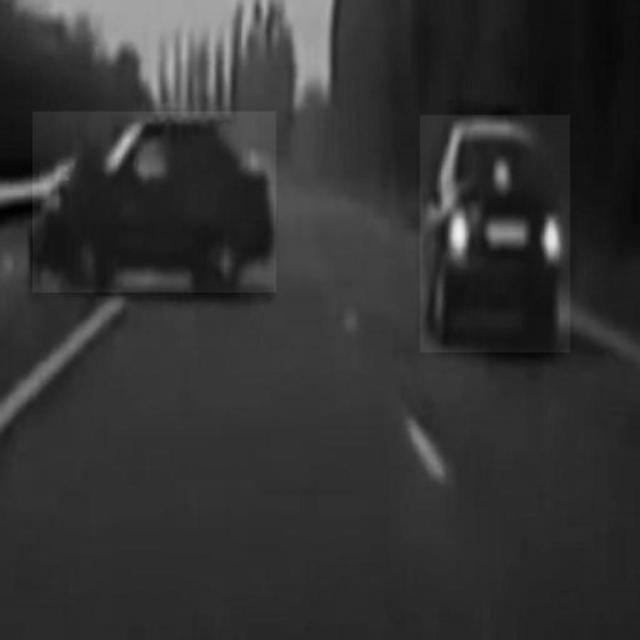vehicle: (33, 112, 276, 292), (420, 116, 570, 353)
